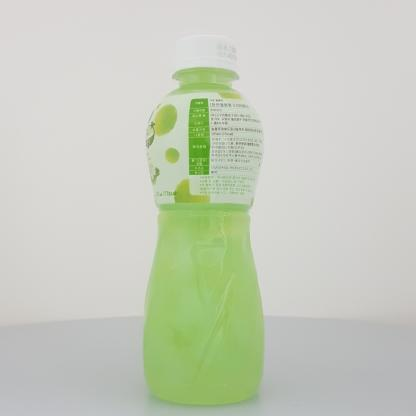-----------: (143, 34, 266, 405)
